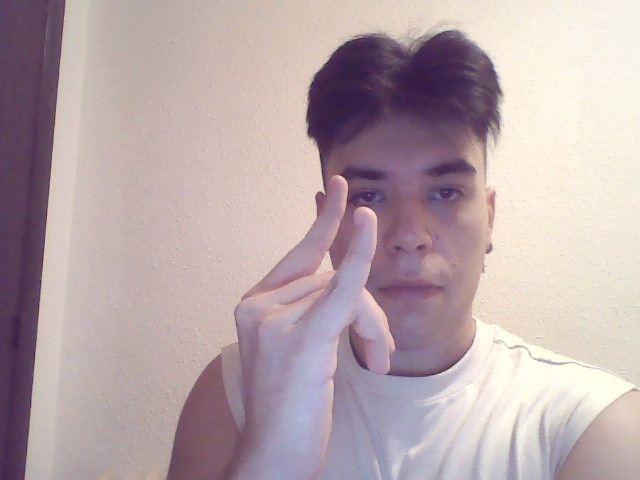Te quiero: (236, 163, 401, 462)
